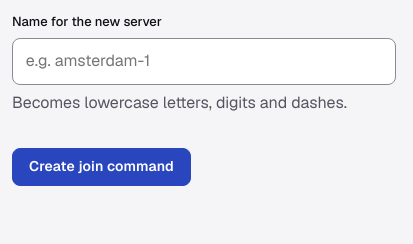
Test case: AddServerForm › shows why a token could not be made
The image size is (413, 244).
Type "x" into the field labelled "Name for the new server" at (204,62), box [12,38,396,85]
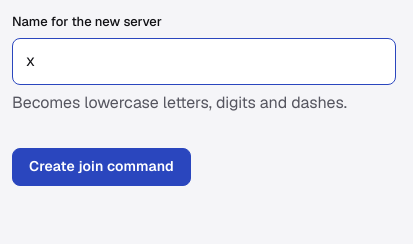
Click the button "Create join command" at (101,167), box [12,148,191,186]
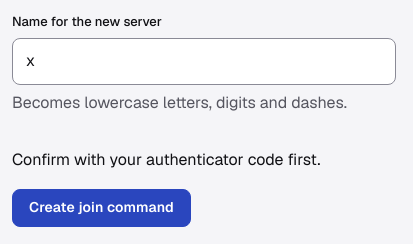
Now the message reads "Confirm with your authenticator code first.", box [12,149,320,170]
